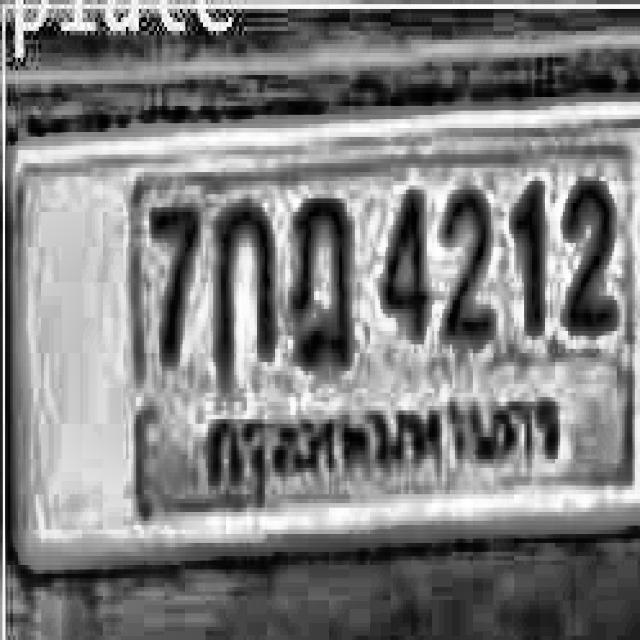license-plate: (0, 83, 640, 583)
